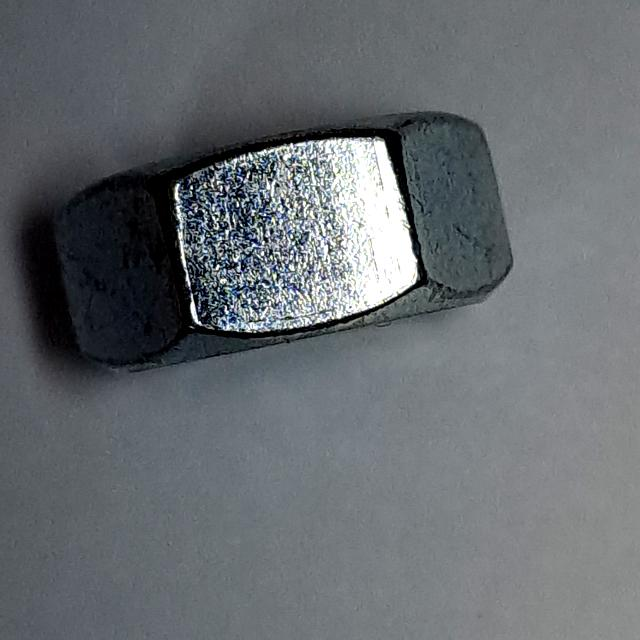Side_Excellent: (42, 104, 522, 388)
